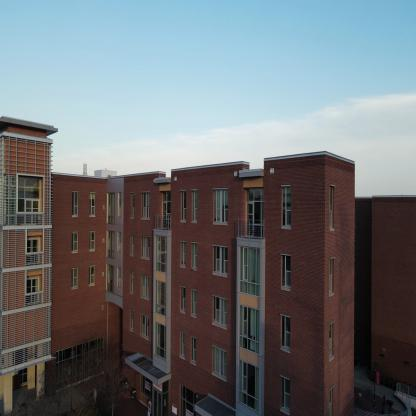Wolf Ridge: (1, 88, 415, 415)
